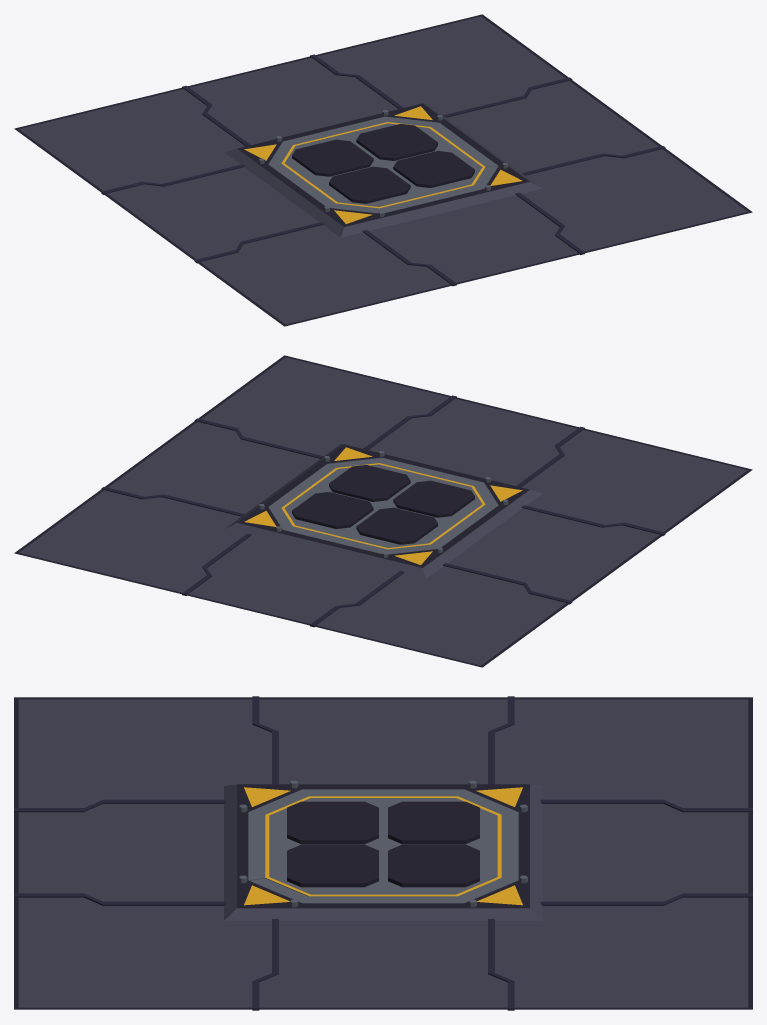
Rendered from GroundA.fbx.
3 renders of one model, top to bottom at view 1: azimuth 30°, elevation 25°; view 2: azimuth 150°, elevation 25°; view 3: azimuth 270°, elevation 25°, orthographic. The views are drawn at different scales.
Visible parts, largest first — view 1: GroundA; view 2: GroundA; view 3: GroundA.
Part boxes in pixels (<box>): GroundA: <box>14,14,752,326</box>; GroundA: <box>14,355,752,667</box>; GroundA: <box>14,696,752,1010</box>.
Bounding box in the file's own units: 400 × 50.28 × 400.
